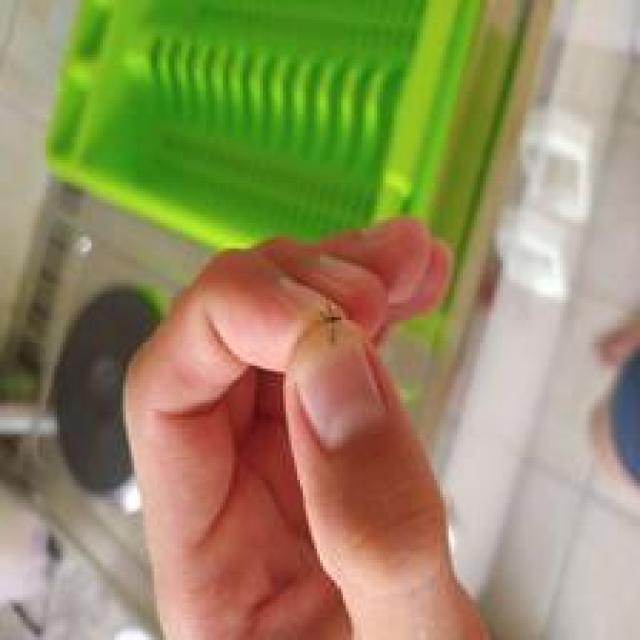Aedes albopictus: (0, 0, 565, 514)
